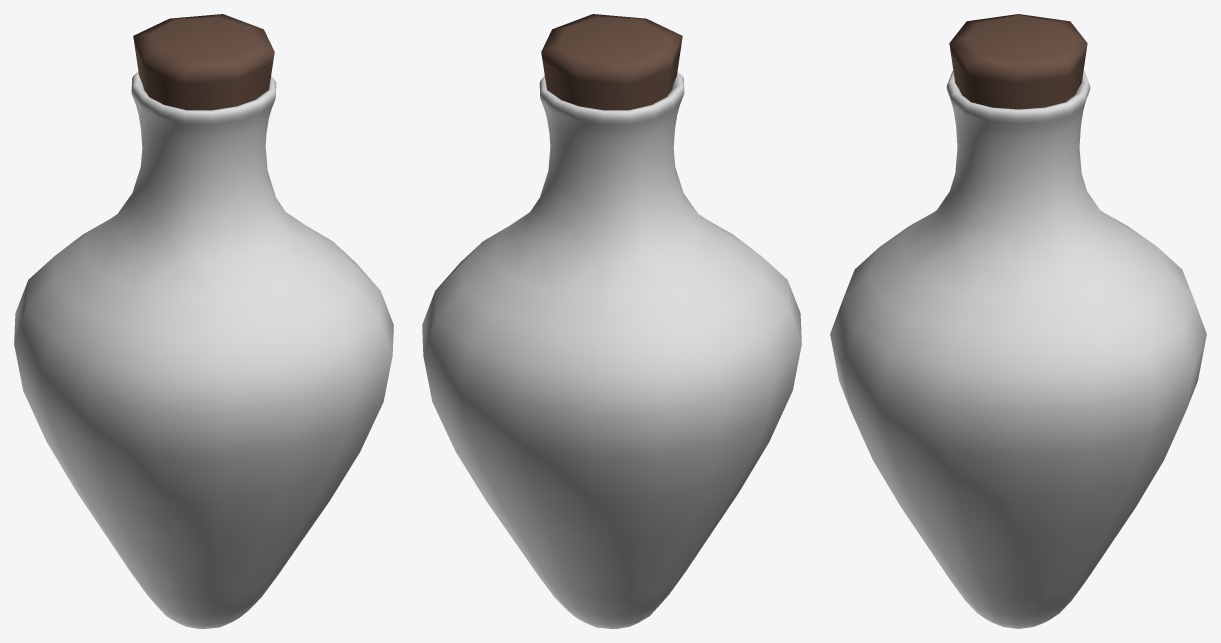
Rendered from Potion4_Empty.glb.
3 views of the same model, side by side, from view 1: azimuth 30°, elevation 25°; view 2: azimuth 150°, elevation 25°; view 3: azimuth 270°, elevation 25° (orthographic).
Visible parts, largest first — view 1: Potion4_Empty; view 2: Potion4_Empty; view 3: Potion4_Empty.
Boxes of the visible parts, <box> form: Potion4_Empty: <box>14,14,393,628</box>; Potion4_Empty: <box>422,14,801,628</box>; Potion4_Empty: <box>830,14,1206,628</box>.
Bounding box in the file's own units: 0.7187 × 1.24 × 0.7187.
